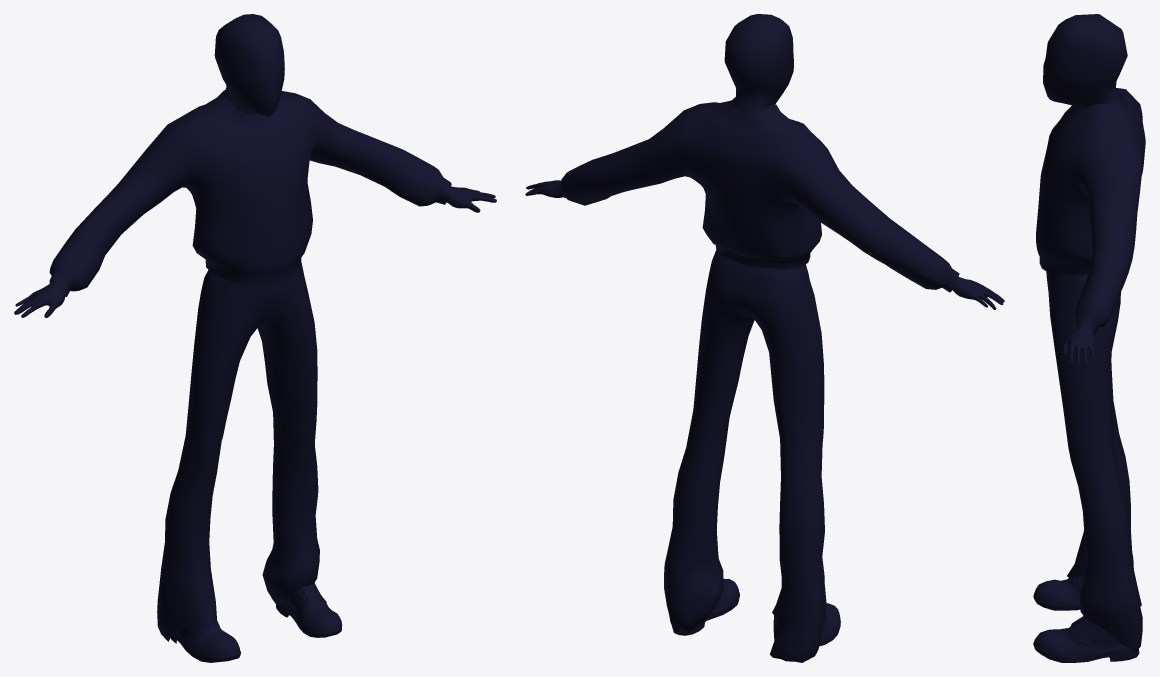
Rendered from texturech.fbx.
3 renders of one model, left to right at view 1: azimuth 30°, elevation 25°; view 2: azimuth 150°, elevation 25°; view 3: azimuth 270°, elevation 25°, orthographic.
Visible parts, largest first — view 1: Group15919, Group4536, Group18998, Low, Low2, Group27433; view 2: Group4536, Group15919, Group18998, Group27433, Low; view 3: Group15919, Group4536, Group18998, Low, Low2, Group27433.
Part boxes in pixels (x1,y1,x2,y2): Group15919: (49,90,451,296); Group4536: (157,262,319,641); Group18998: (214,14,284,116); Low: (276,583,342,637); Low2: (170,615,240,662); Group27433: (14,186,496,317); Group4536: (664,249,826,662); Group15919: (560,97,959,292); Group18998: (724,14,793,112); Group27433: (525,180,1004,309); Low: (672,578,739,635); Group15919: (1036,88,1145,334); Group4536: (1046,271,1142,651); Group18998: (1043,14,1127,108); Low: (1033,616,1139,662); Low2: (1033,576,1084,610); Group27433: (1063,321,1094,365).
Bounding box in the file's own units: 131 × 161 × 26.91.
